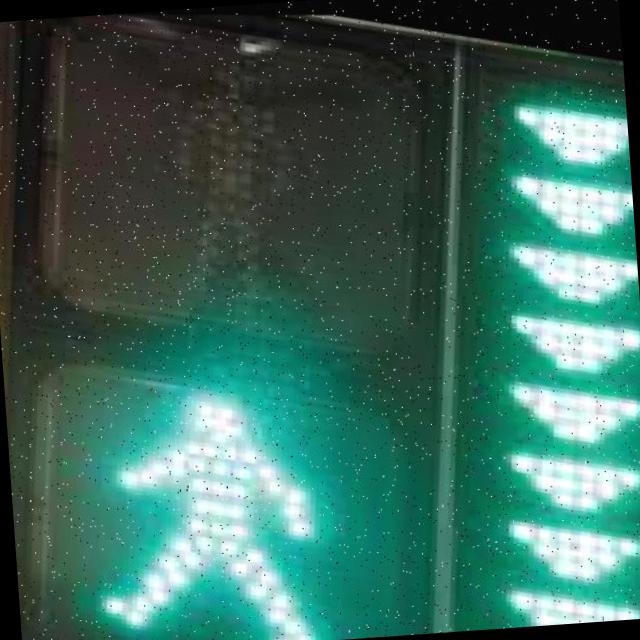green_light: (17, 327, 395, 640)
